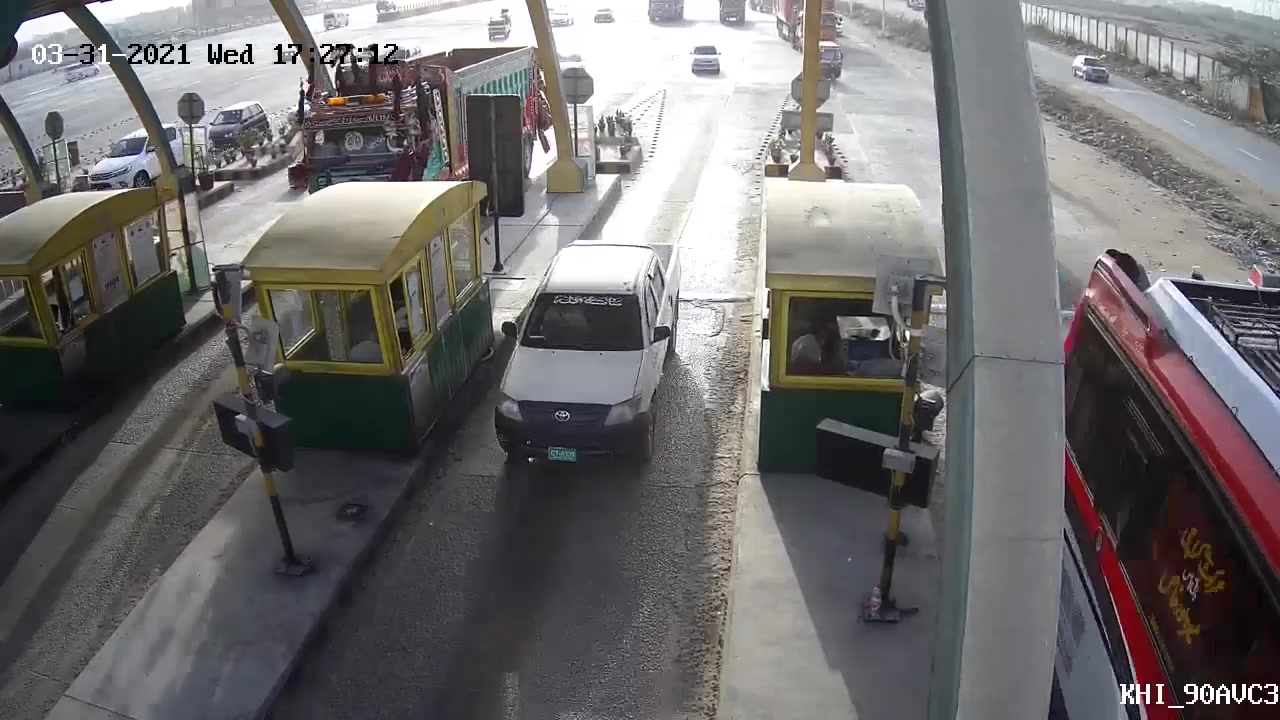F1: (486, 239, 696, 475)
